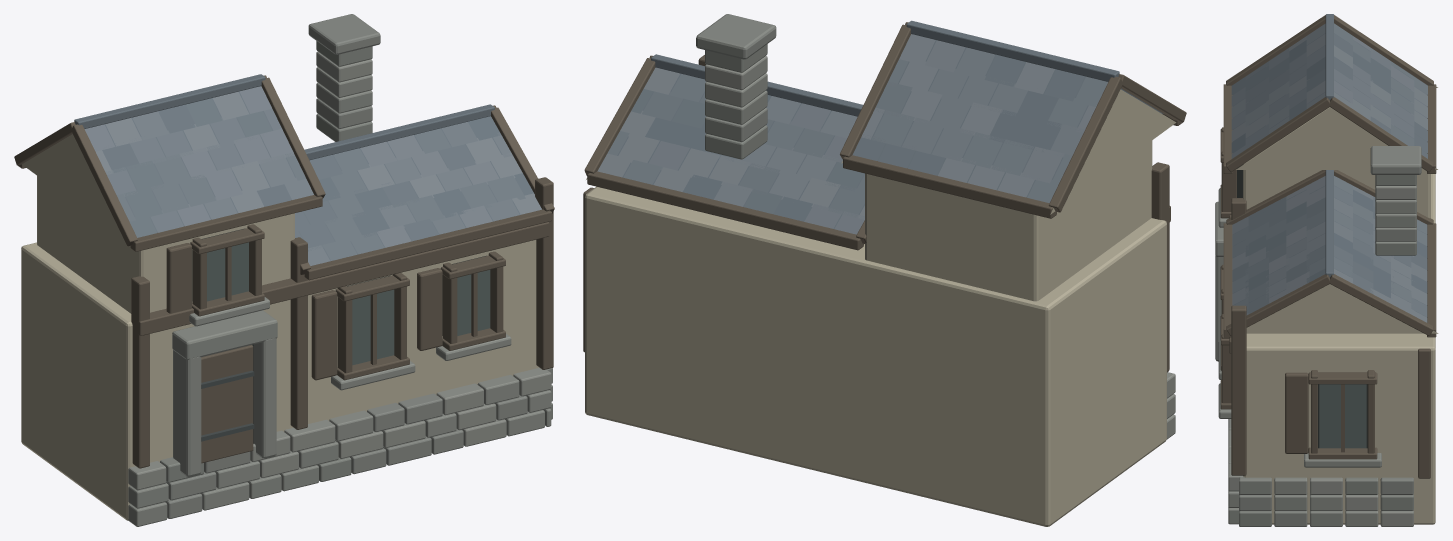
Rendered from c01_n3_upper_market.glb.
3 views of the same model, side by side, from view 1: azimuth 30°, elevation 25°; view 2: azimuth 150°, elevation 25°; view 3: azimuth 270°, elevation 25° (orthographic). The views are drawn at different scales.
Parts seen in each view (by area): view 1: Architecture, Roof; view 2: Architecture, Roof; view 3: Architecture, Roof.
Part boxes in pixels (x1,y1,x2,y2): Architecture: (21, 14, 553, 526); Roof: (14, 74, 554, 280); Architecture: (583, 14, 1176, 526); Roof: (584, 20, 1186, 250); Architecture: (1215, 87, 1438, 526); Roof: (1223, 14, 1436, 337).
Bounding box in the file's own units: 3.87 × 3.07 × 1.89.
